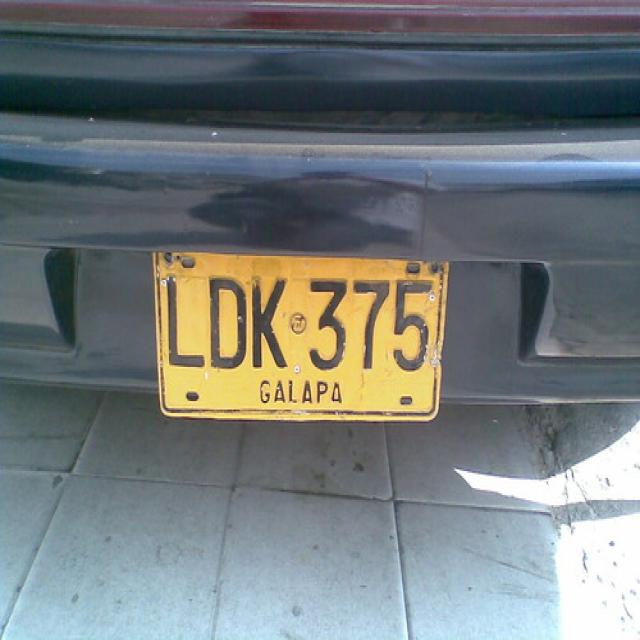placas: (157, 246, 447, 375)
